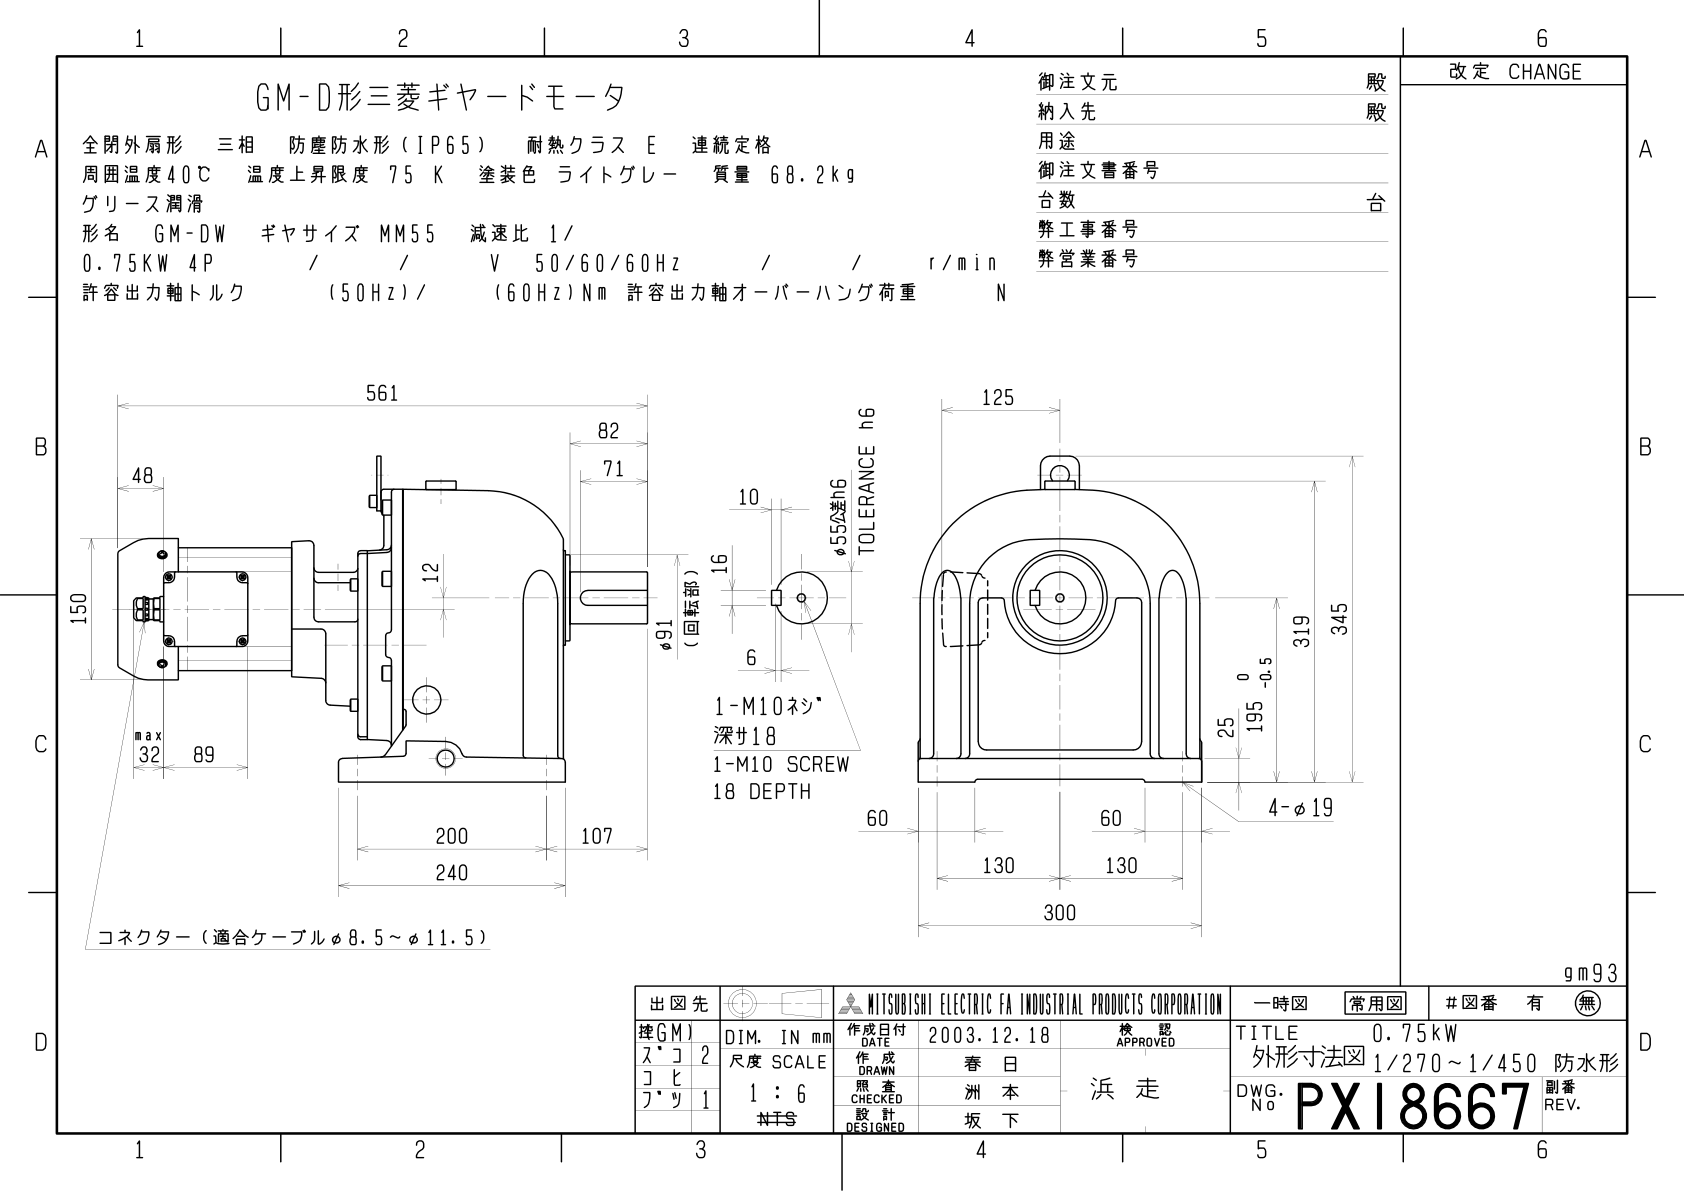GM_D_IP65_三相_脚: (1, 1, 1676, 1178)
